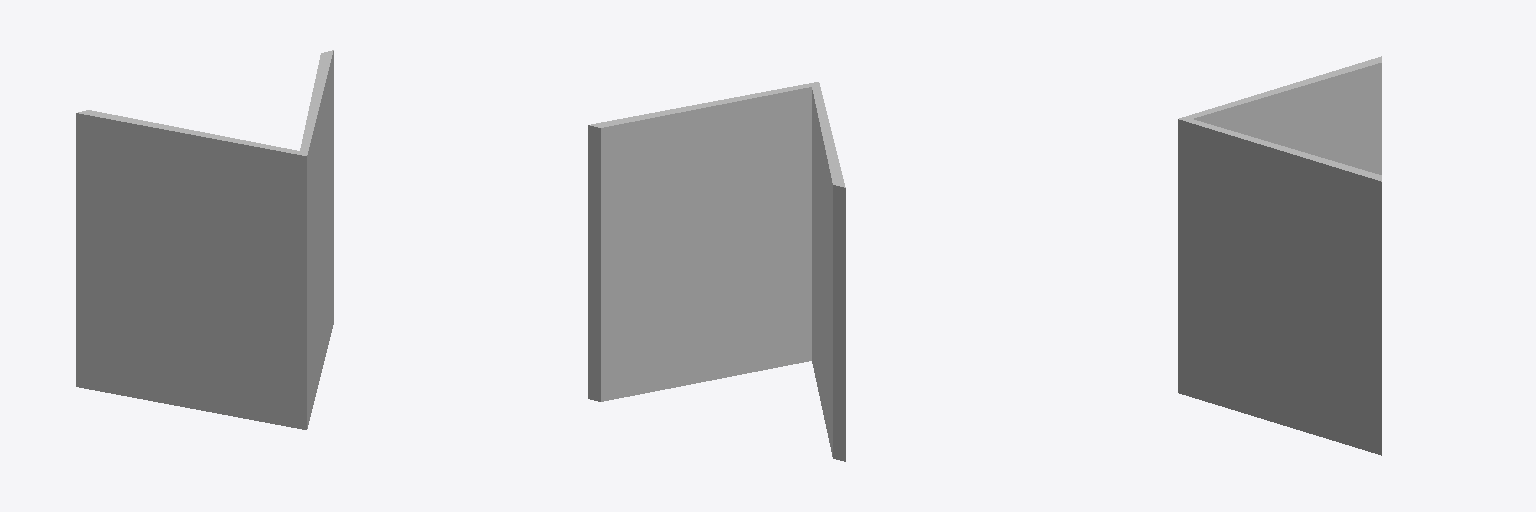
File: card.obj
3 renders of one model, left to right at view 1: azimuth 30°, elevation 25°; view 2: azimuth 150°, elevation 25°; view 3: azimuth 270°, elevation 25°, orthographic.
Visible parts, largest first — view 1: obj_0; view 2: obj_0; view 3: obj_0.
Part boxes in pixels (x1,y1,x2,y2): obj_0: (76,50,333,429); obj_0: (588,82,845,461); obj_0: (1178,56,1381,455).
Bounding box in the file's own units: 61 × 62 × 42.